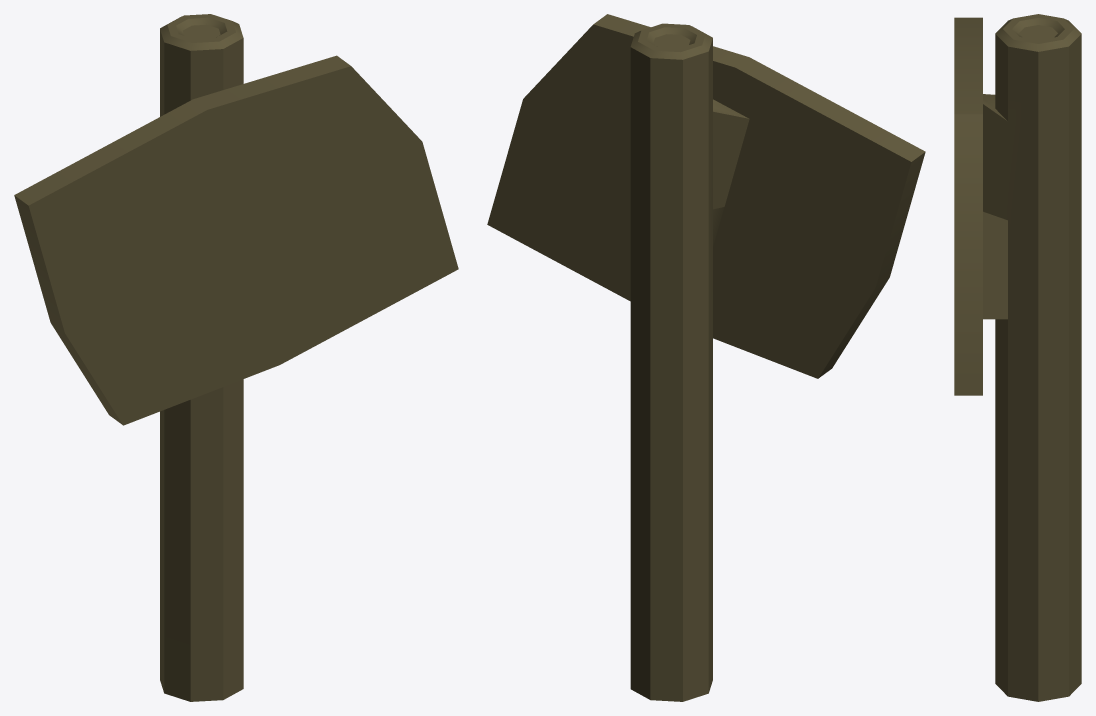
File: LetreroFaro 1.fbx
3 views of the same model, side by side, from view 1: azimuth 30°, elevation 25°; view 2: azimuth 150°, elevation 25°; view 3: azimuth 270°, elevation 25° (orthographic).
Parts seen in each view (by area): view 1: LetreroFaro; view 2: LetreroFaro; view 3: LetreroFaro.
Boxes of the visible parts, x1,y1,x2,y2 form: LetreroFaro: [14, 14, 458, 701]; LetreroFaro: [487, 14, 925, 701]; LetreroFaro: [954, 14, 1081, 701].
Bounding box in the file's own units: 2.01 × 2.93 × 0.5168.
